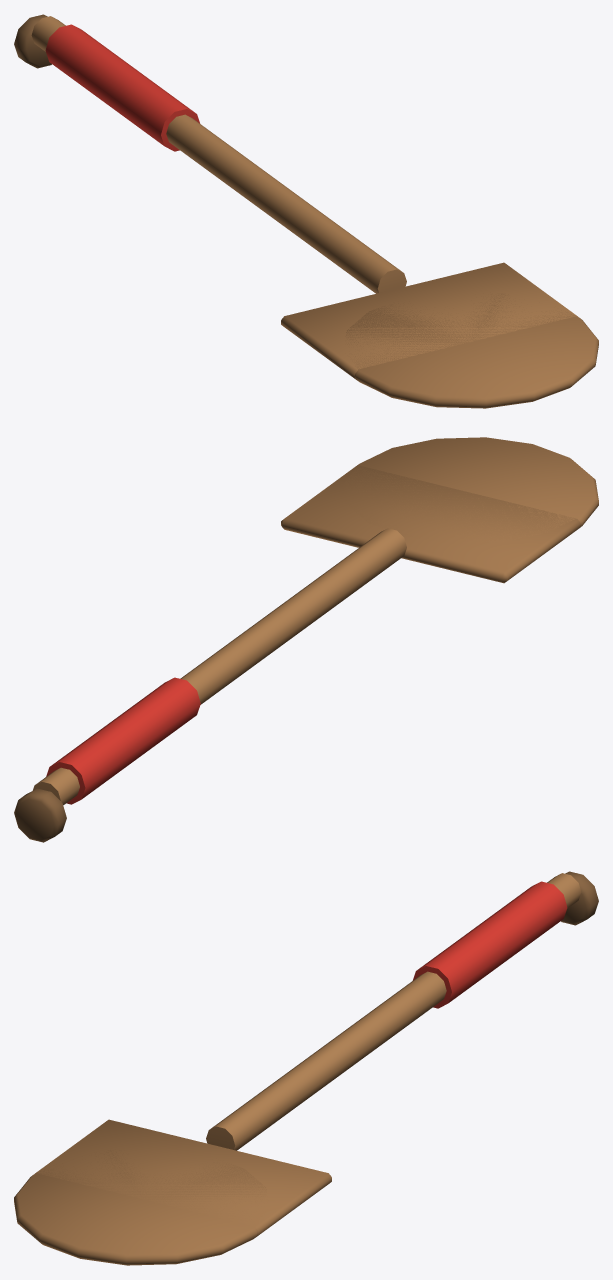
Rendered from SM_Pizza_Peel_01.glb.
The picture shows the model from 3 angles, top to bottom: view 1: azimuth 30°, elevation 25°; view 2: azimuth 150°, elevation 25°; view 3: azimuth 330°, elevation 25°; orthographic projection.
Parts seen in each view (by area): view 1: SM_Pizza_Peel_01; view 2: SM_Pizza_Peel_01; view 3: SM_Pizza_Peel_01.
Boxes of the visible parts, x1,y1,x2,y2 form: SM_Pizza_Peel_01: (14, 14, 598, 408); SM_Pizza_Peel_01: (14, 437, 598, 842); SM_Pizza_Peel_01: (14, 871, 598, 1265).
Bounding box in the file's own units: 0.34 × 0.0809 × 1.3.
Materials: 1 (1 with a texture image).
